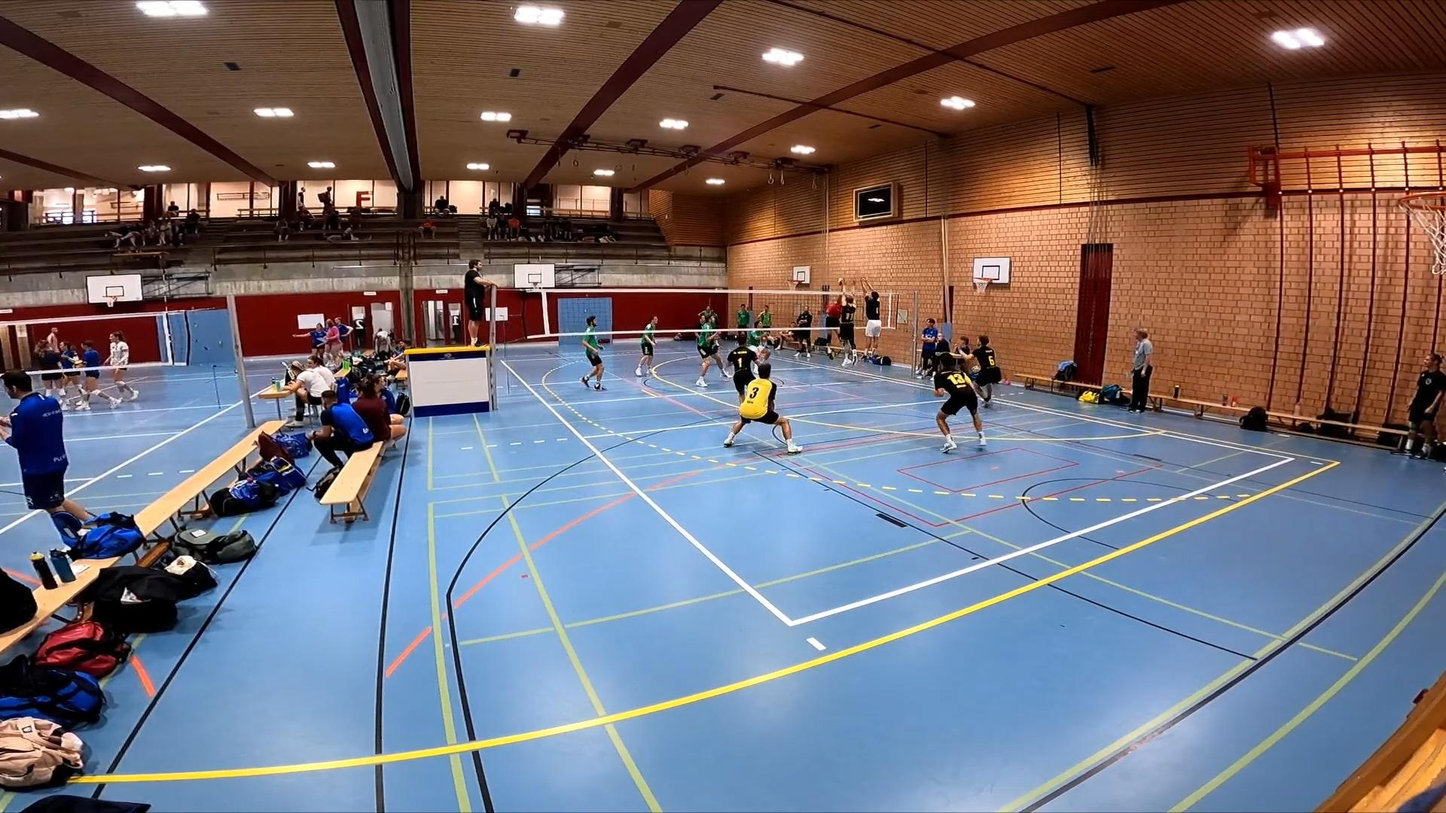Attack: (823, 277, 845, 357)
Block: (833, 274, 859, 363), (857, 276, 885, 353)
Player: (724, 363, 802, 453), (934, 356, 985, 452), (695, 319, 727, 387), (726, 336, 758, 402), (972, 335, 1001, 407), (580, 316, 604, 390), (916, 318, 939, 377), (635, 315, 657, 376), (747, 320, 773, 360)
ball: (835, 271, 848, 288)
